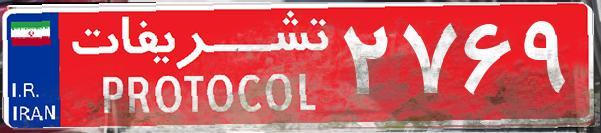2: (340, 20, 400, 115)
6: (460, 20, 520, 115)
7: (400, 20, 460, 115)
9: (520, 20, 580, 115)
تشریفات: (60, 8, 340, 125)
